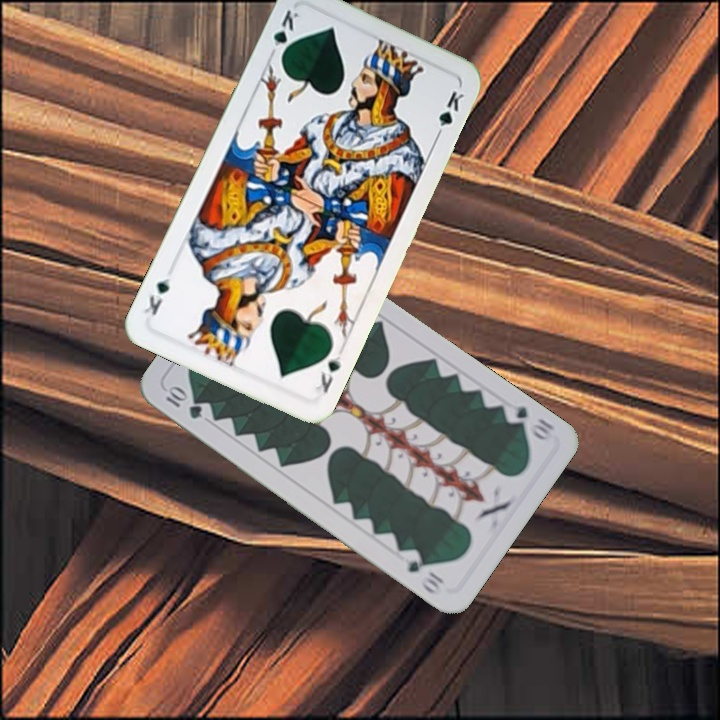G10: (500, 401, 558, 446), (161, 382, 205, 422)
GK: (265, 5, 304, 63), (310, 350, 344, 398)
